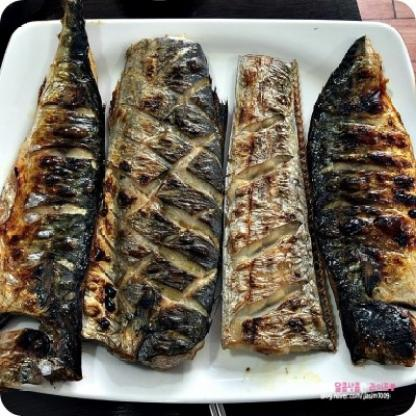Peixe: (0, 4, 416, 410)
